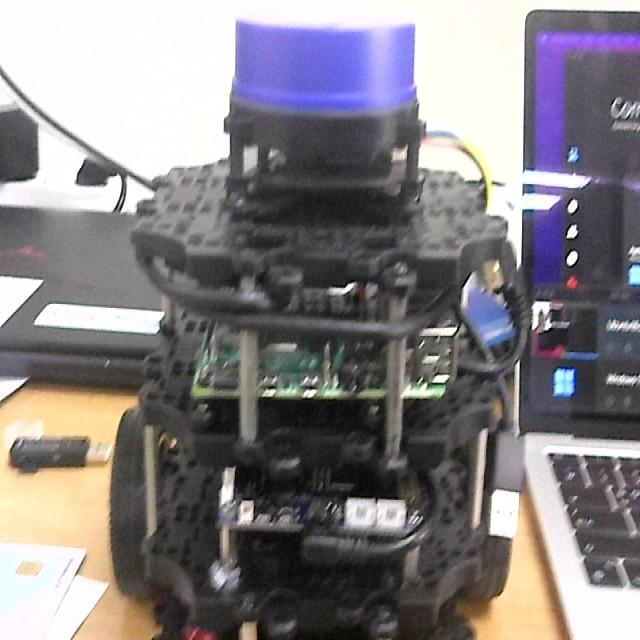turtle: (107, 10, 529, 640)
